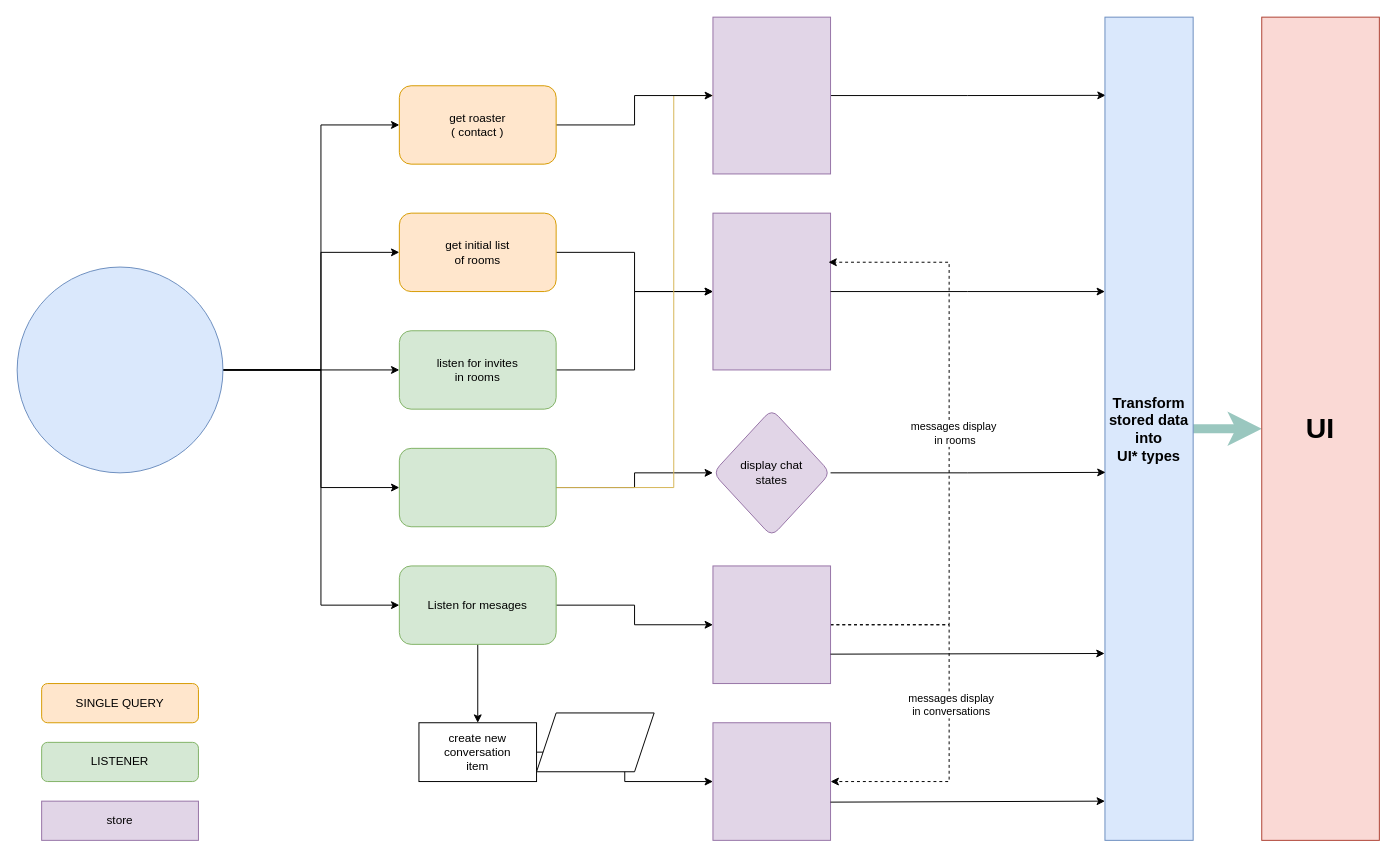
This 1397x858 diagram has some shape labels left out. The centre of each missing label's shape, as x and y in pixels:
contacts list: (x=771, y=95)
EVENT SOURCE XMPP SERVER: (x=119, y=369)
list of conversations: (x=771, y=781)
list of messages in rooms and conversations: (x=771, y=624)
list of rooms in sidebar: (x=771, y=291)
Listen for precense: (x=477, y=487)
